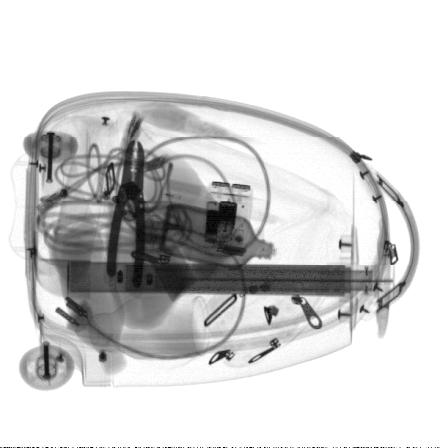Pliers: (106, 140, 146, 289)
